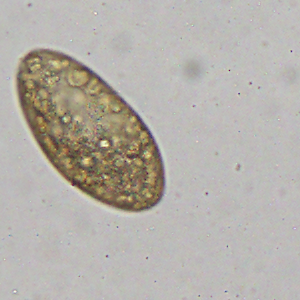Fasciola_hepatica_egg: (13, 45, 167, 213)
